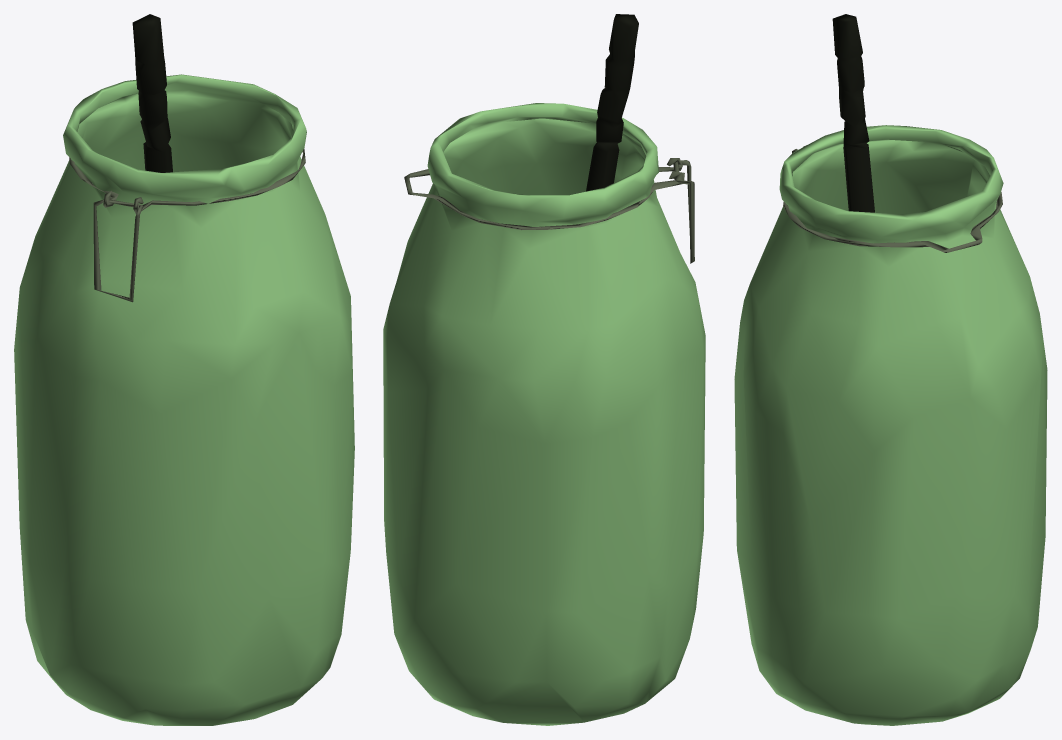
File: HoneyStick_LOD1.fbx
The picture shows the model from 3 angles, left to right: view 1: azimuth 30°, elevation 25°; view 2: azimuth 150°, elevation 25°; view 3: azimuth 270°, elevation 25°; orthographic projection. The views are drawn at different scales.
Parts seen in each view (by area): view 1: HoneyStick_; view 2: HoneyStick_; view 3: HoneyStick_.
Part boxes in pixels (x1,y1,x2,y2): HoneyStick_: (14,14,354,725); HoneyStick_: (383,14,705,725); HoneyStick_: (734,14,1047,725).
Size of the model in its own units: 19.75 by 44.28 by 19.86.
